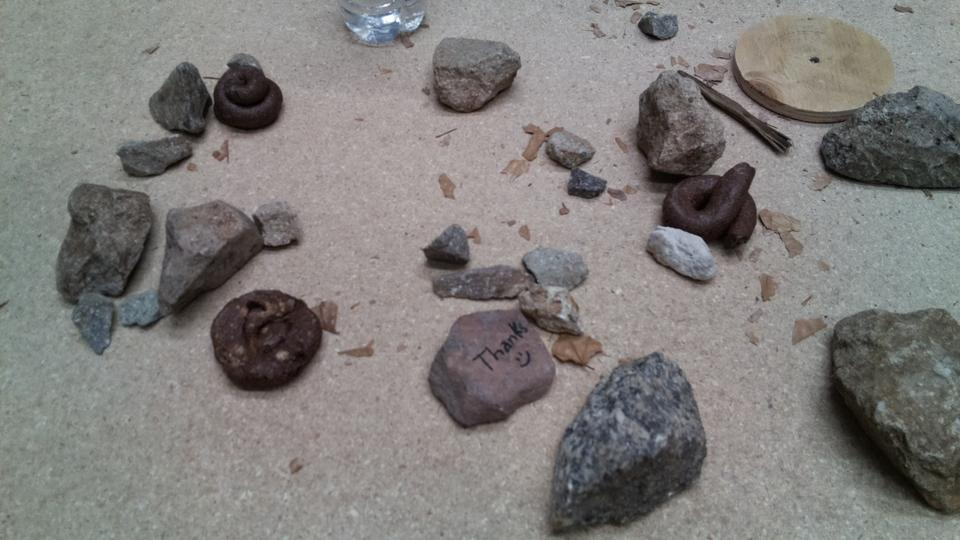poop: (208, 285, 327, 393), (661, 161, 763, 249), (212, 60, 285, 134)
